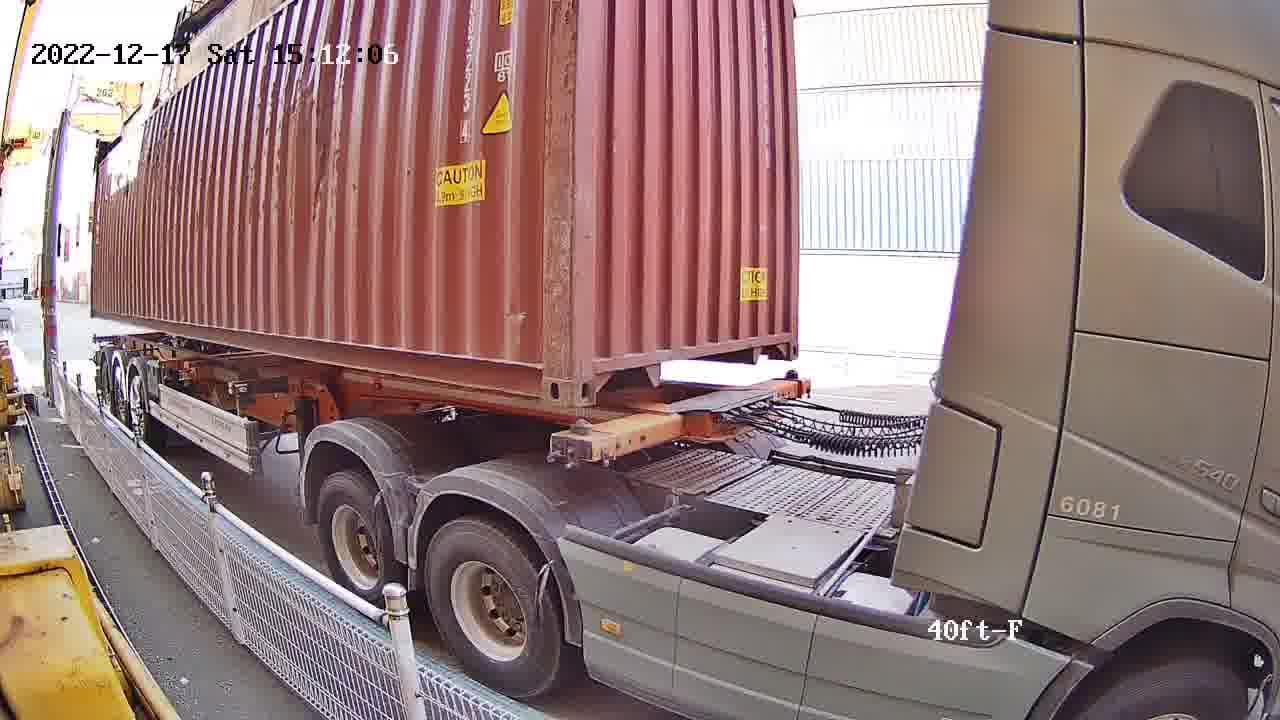Chassis: (552, 377, 810, 467)
Cone: (547, 415, 605, 467), (782, 367, 805, 386)
Hole_L: (574, 340, 618, 403)
Hole_R: (521, 340, 575, 404), (765, 318, 800, 362)
Tire: (427, 523, 557, 699), (317, 480, 392, 600)
